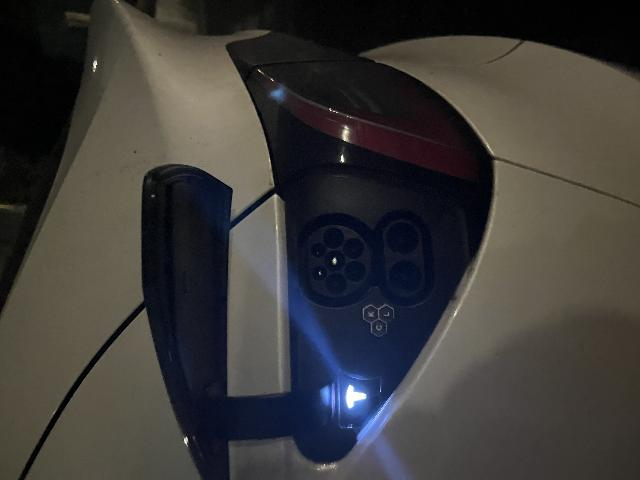inlet: (182, 307, 255, 370)
inlet-above-right: (223, 311, 237, 326)
inlet-below-left: (198, 344, 220, 366), (200, 311, 215, 326)
inlet-below-right: (221, 343, 242, 364)
inlet-circle: (209, 324, 230, 345)
inlet-circle-left: (186, 325, 207, 346)
inlet-circle-right: (231, 323, 252, 344)
inlet-minus: (224, 386, 258, 418)
inlet-plus: (186, 389, 220, 421)
